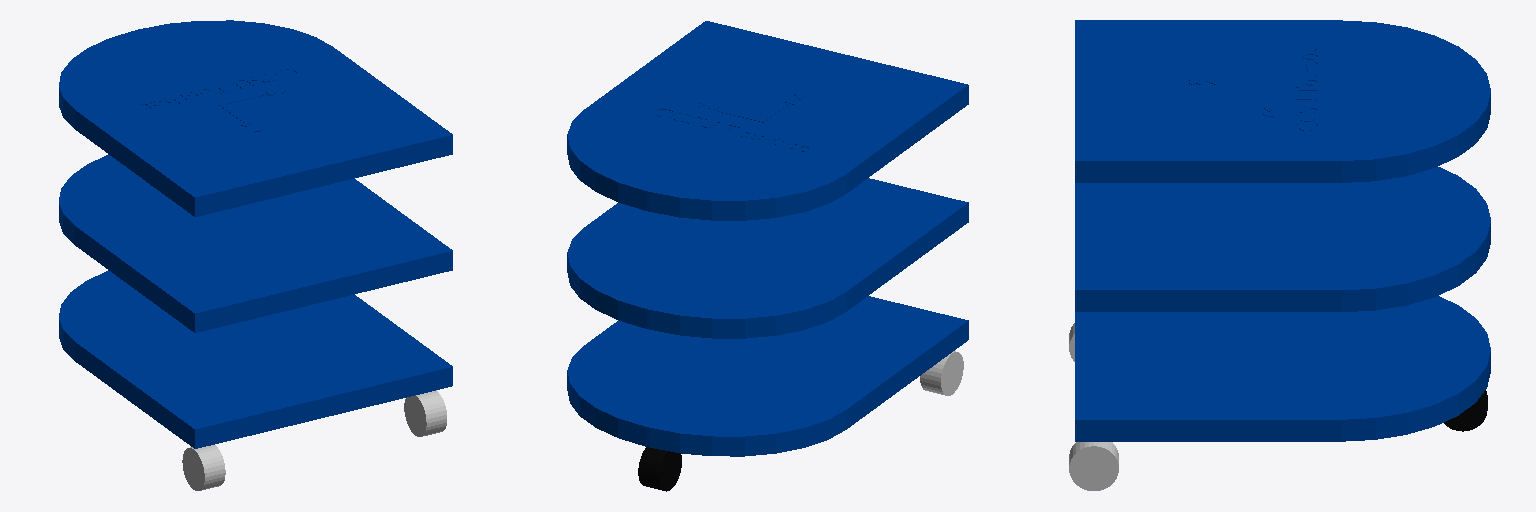
URDF robot description (tourbot):
<?xml version="1.0"?>
<!-- created with Phobos 0.7 -->
  <robot name="tourbot">

    <link name="back-center_wheel_link">
      <inertial>
        <origin xyz="0 0 0" rpy="0 0 0"/>
        <mass value="1.0"/>
        <inertia ixx="0.002" ixy="0" ixz="0" iyy="0.002" iyz="0" izz="0.002"/>
      </inertial>
      <visual name="back-center_wheel">
        <origin xyz="0 0 0" rpy="0 -3.14159 0"/>
        <geometry>
          <cylinder radius="0.035" length="0.03757"/>
        </geometry>
        <material name="tred"/>
      </visual>
      <collision name="back-center_wheel">
        <origin xyz="0 0 0" rpy="0 -3.14159 0"/>
        <geometry>
          <cylinder radius="0.03475" length="0.03761"/>
        </geometry>
      </collision>
    </link>

    <link name="front-left_wheel_link">
      <inertial>
        <origin xyz="0 0 0" rpy="0 0 0"/>
        <mass value="1.0"/>
        <inertia ixx="0.002" ixy="0" ixz="0" iyy="0.002" iyz="0" izz="0.002"/>
      </inertial>
      <visual name="front-left_wheel">
        <origin xyz="0 0 0" rpy="0 -3.14159 0"/>
        <geometry>
          <cylinder radius="0.035" length="0.03757"/>
        </geometry>
        <material name="spacer"/>
      </visual>
      <collision name="front-left_wheel">
        <origin xyz="0 0 0" rpy="0 -3.14159 0"/>
        <geometry>
          <cylinder radius="0.035" length="0.03756"/>
        </geometry>
      </collision>
    </link>

    <link name="front-right_wheel_link">
      <inertial>
        <origin xyz="0 0 0" rpy="0 0 0"/>
        <mass value="1.0"/>
        <inertia ixx="0.002" ixy="0" ixz="0" iyy="0.002" iyz="0" izz="0.002"/>
      </inertial>
      <visual name="front-right_wheel">
        <origin xyz="0 0 0" rpy="0 -3.14159 0"/>
        <geometry>
          <cylinder radius="0.035" length="0.03757"/>
        </geometry>
        <material name="spacer.001"/>
      </visual>
      <collision name="front-right_wheel">
        <origin xyz="0 0 0" rpy="0 -3.14159 0"/>
        <geometry>
          <cylinder radius="0.035" length="0.03755"/>
        </geometry>
      </collision>
    </link>

    <link name="link_razorm0_imu">
    </link>

    <link name="link_rplidar">
    </link>

    <link name="robot-base_plate_link">
      <inertial>
        <origin xyz="0 0 0" rpy="0 0 0"/>
        <mass value="5.0"/>
        <inertia ixx="0.06787" ixy="0" ixz="0" iyy="0.02492" iyz="0" izz="0.5362"/>
      </inertial>
      <visual name="robot-base_plate">
        <origin xyz="0 0 0" rpy="0 0 0"/>
        <geometry>
          <mesh filename="package://tourbot_description/meshes/dae/Cube.002.dae" scale="0.66479 0.6021 1.0"/>
        </geometry>
        <material name="basecolor"/>
      </visual>
      <collision name="robot-base_plate">
        <origin xyz="0 0.02141 0" rpy="0 0 0"/>
        <geometry>
          <box size="0.46623 0.5833 0.03386"/>
        </geometry>
      </collision>
    </link>

    <link name="robot-body_link">
      <inertial>
        <origin xyz="0 0 0" rpy="0 0 0"/>
        <mass value="5.0"/>
        <inertia ixx="0.0677" ixy="0" ixz="0" iyy="0.02487" iyz="0" izz="0.53489"/>
      </inertial>
      <visual name="robot-top_plate">
        <origin xyz="0 0 0" rpy="0 0 0"/>
        <geometry>
          <mesh filename="package://tourbot_description/meshes/dae/Cube.003.dae" scale="0.66479 0.6021 1.0"/>
        </geometry>
        <material name="basecolor"/>
      </visual>
      <collision name="robot-top_plate">
        <origin xyz="0 0.02142 0.0004" rpy="0 0 0"/>
        <geometry>
          <mesh filename="package://tourbot_description/meshes/dae/Cube.012.dae" scale="1.0 1.0 1.0"/>
        </geometry>
      </collision>
    </link>

    <link name="robot-bottom_plate_link">
      <inertial>
        <origin xyz="0 0 0" rpy="0 0 0"/>
        <mass value="5.0"/>
        <inertia ixx="0.06787" ixy="0" ixz="0" iyy="0.02492" iyz="0" izz="0.5362"/>
      </inertial>
      <visual name="robot-bottom_plate">
        <origin xyz="0 0 0" rpy="0 0 0"/>
        <geometry>
          <mesh filename="package://tourbot_description/meshes/dae/Cube.001.dae" scale="0.66479 0.6021 1.0"/>
        </geometry>
        <material name="basecolor"/>
      </visual>
      <collision name="robot-bottom_plate">
        <origin xyz="0 0.02141 0" rpy="0 0 0"/>
        <geometry>
          <box size="0.46623 0.5833 0.03386"/>
        </geometry>
      </collision>
    </link>

    <joint name="back-center_wheel_joint" type="floating">
      <origin xyz="0.00041 0.27362 -0.06608" rpy="0 1.5708 0"/>
      <parent link="robot-bottom_plate_link"/>
      <child link="back-center_wheel_link"/>
      <limit effort="10000.0" velocity="1000.0"/>
    </joint>

    <joint name="front-left_wheel_joint" type="floating">
      <origin xyz="0.19918 -0.24306 -0.06608" rpy="0 1.5708 0"/>
      <parent link="robot-bottom_plate_link"/>
      <child link="front-left_wheel_link"/>
      <limit effort="10000.0" velocity="1000.0"/>
    </joint>

    <joint name="front-right_wheel_joint" type="floating">
      <origin xyz="-0.20119 -0.24306 -0.06608" rpy="0 1.5708 0"/>
      <parent link="robot-bottom_plate_link"/>
      <child link="front-right_wheel_link"/>
      <limit effort="10000.0" velocity="1000.0"/>
    </joint>

    <joint name="link_razorm0_imu" type="fixed">
      <origin xyz="0 0 0" rpy="0 0 0"/>
      <parent link="robot-body_link"/>
      <child link="link_razorm0_imu"/>
    </joint>

    <joint name="link_rplidar_joint" type="fixed">
      <origin xyz="0 0 0" rpy="0 0 0"/>
      <parent link="robot-base_plate_link"/>
      <child link="link_rplidar"/>
    </joint>

    <joint name="robot-base_plate_joint" type="fixed">
      <origin xyz="0 2e-05 -0.20001" rpy="0 0 0"/>
      <parent link="robot-body_link"/>
      <child link="robot-base_plate_link"/>
    </joint>

    <joint name="robot-bottom_plate_joint" type="fixed">
      <origin xyz="0 0 -0.2" rpy="0 0 0"/>
      <parent link="robot-base_plate_link"/>
      <child link="robot-bottom_plate_link"/>
    </joint>

    <material name="basecolor">
      <color rgba="0 0.28512 0.63304 1.0"/>
    </material>

    <material name="spacer">
      <color rgba="0.8 0.8 0.8 1.0"/>
    </material>

    <material name="spacer.001">
      <color rgba="0.8 0.8 0.8 1.0"/>
    </material>

    <material name="tred">
      <color rgba="0.05858 0.05858 0.05858 1.0"/>
    </material>

  </robot>

--- What the picture shows (computed from the rendered views, not written in the file) ---
The picture shows the robot from 3 angles, left to right: view 1: azimuth 30°, elevation 25°; view 2: azimuth 150°, elevation 25°; view 3: azimuth 270°, elevation 25°; orthographic projection.
Robot: tourbot — 8 links, 7 joints (4 fixed, 3 floating); root link robot-body_link; default pose: every joint at zero.
Links seen in each view (by area): view 1: robot-body_link, robot-bottom_plate_link, robot-base_plate_link, front-right_wheel_link, front-left_wheel_link; view 2: robot-body_link, robot-base_plate_link, robot-bottom_plate_link, back-center_wheel_link, front-right_wheel_link; view 3: robot-body_link, robot-bottom_plate_link, robot-base_plate_link, front-left_wheel_link, back-center_wheel_link.
Boxes of the visible links, x1,y1,x2,y2 form: robot-body_link: (59, 20, 452, 216); robot-bottom_plate_link: (59, 270, 452, 448); robot-base_plate_link: (59, 154, 452, 332); front-right_wheel_link: (182, 445, 225, 490); front-left_wheel_link: (404, 390, 446, 436); robot-body_link: (567, 21, 968, 220); robot-base_plate_link: (567, 178, 968, 338); robot-bottom_plate_link: (567, 296, 968, 456); back-center_wheel_link: (638, 447, 681, 491); front-right_wheel_link: (920, 351, 963, 395); robot-body_link: (1075, 20, 1490, 182); robot-bottom_plate_link: (1075, 296, 1490, 441); robot-base_plate_link: (1075, 167, 1490, 311); front-left_wheel_link: (1069, 442, 1118, 490); back-center_wheel_link: (1444, 390, 1487, 431).
Size in the robot's own frame: 0.4662 by 0.5911 by 0.5188 metres.
3 mesh visuals loaded from 3 distinct referenced files (3 Collada DAE).